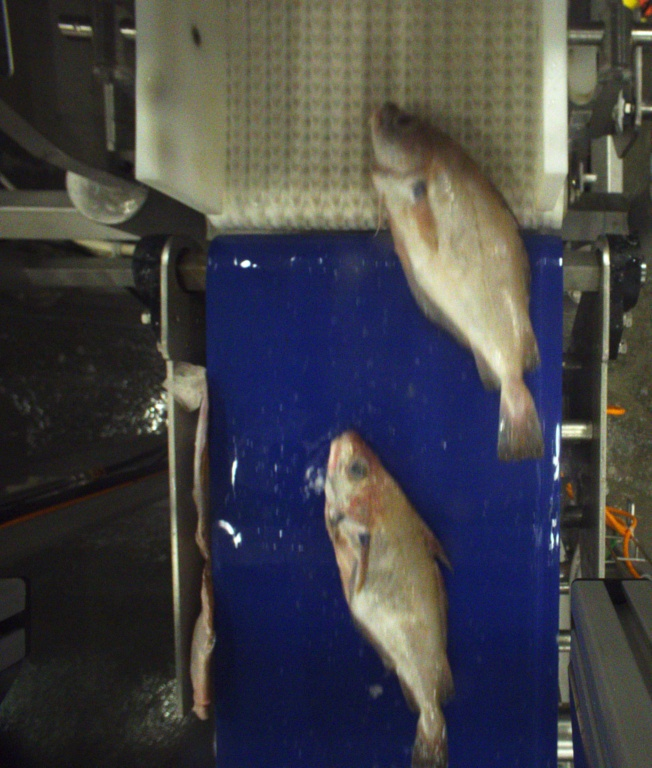BIB: (325, 431, 451, 768)
